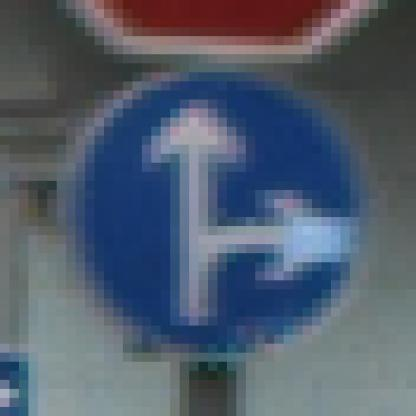Straight or Right: (49, 55, 361, 363)
